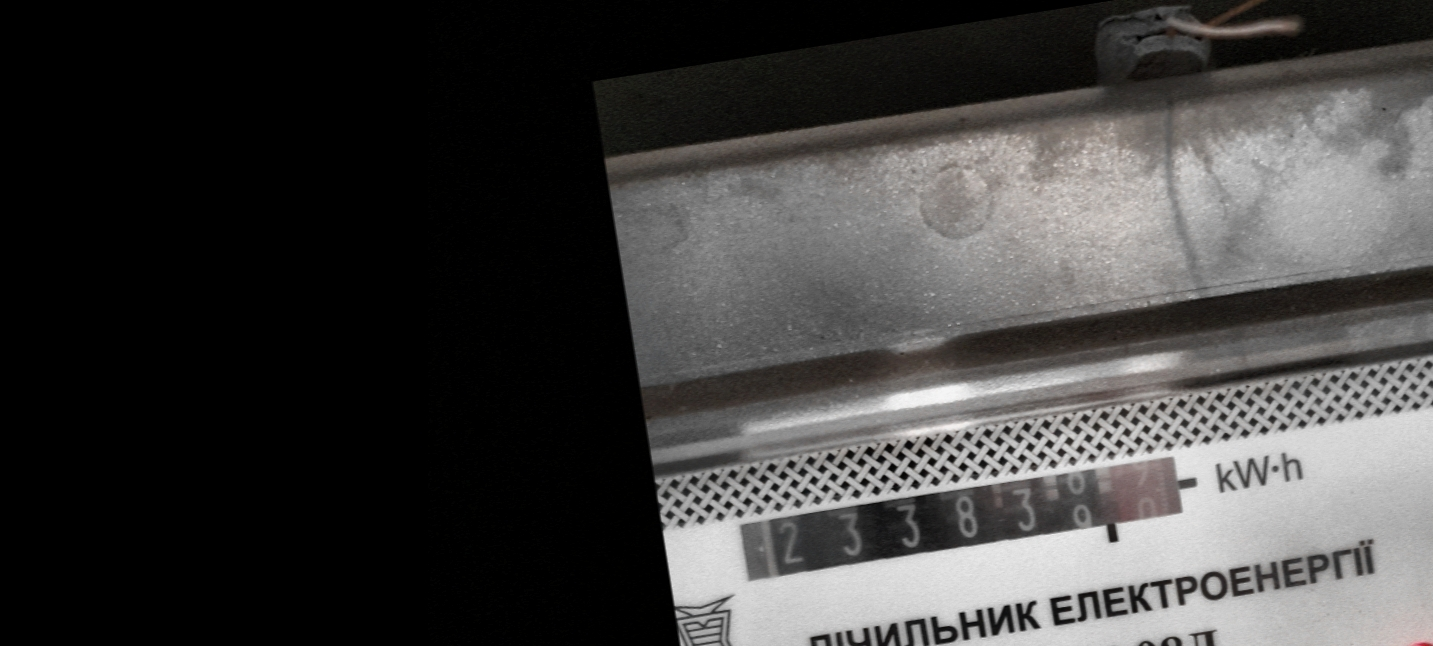0: (1134, 491, 1160, 520)
2: (775, 516, 806, 566)
3: (832, 505, 868, 558), (890, 497, 926, 550), (1008, 483, 1039, 531)
8: (949, 490, 982, 540), (1063, 467, 1089, 497)
9: (1128, 455, 1154, 488), (1068, 498, 1094, 530)
screen: (726, 441, 1206, 602)
